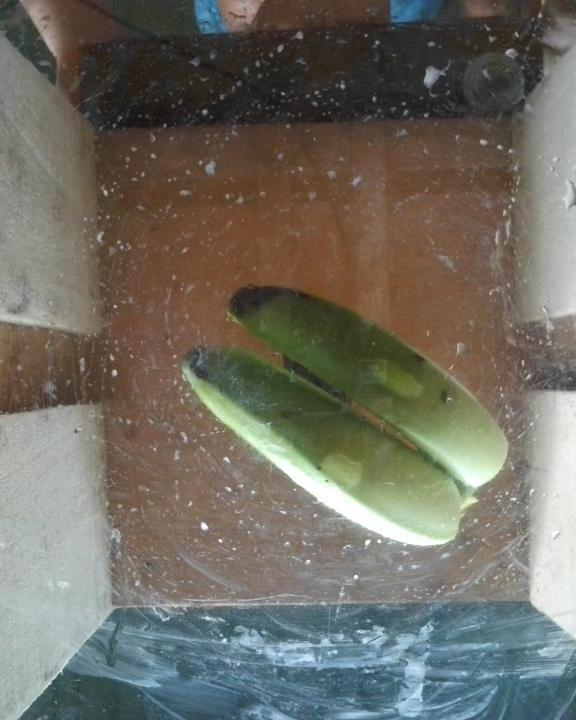CLASS B: (177, 279, 528, 557)
Class A: (228, 287, 294, 323), (186, 360, 225, 389), (436, 383, 463, 412), (407, 349, 430, 372)
